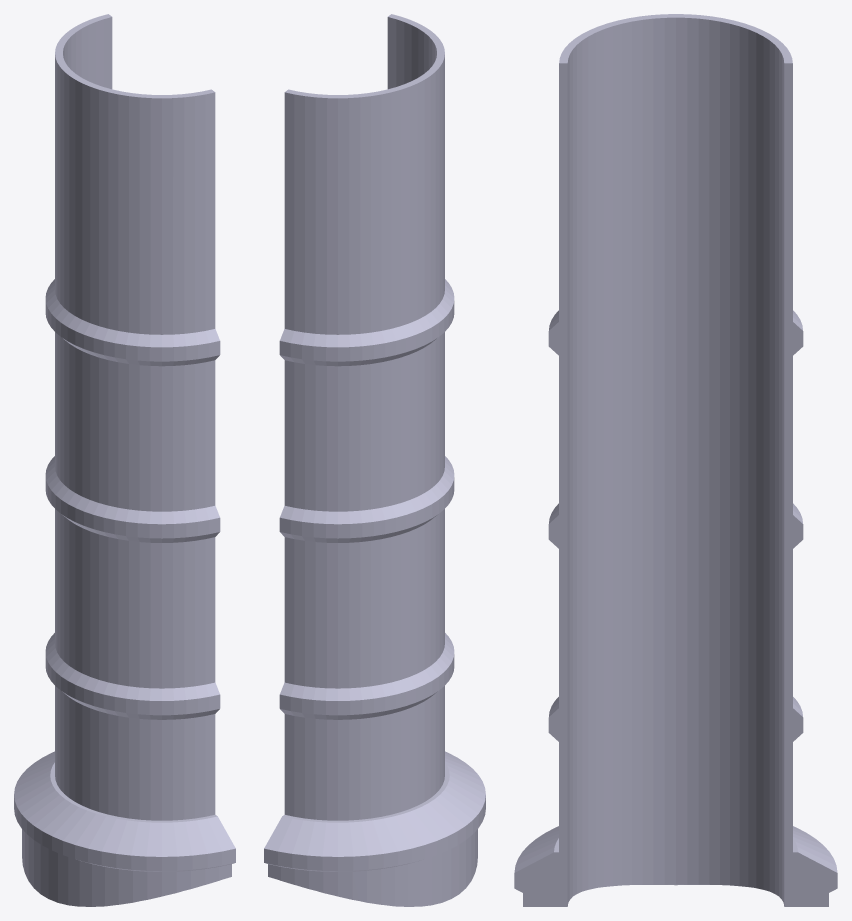
Rendered from PX16-cut2.glb.
3 renders of one model, left to right at view 1: azimuth 30°, elevation 25°; view 2: azimuth 150°, elevation 25°; view 3: azimuth 270°, elevation 25°, orthographic. The views are drawn at different scales.
Parts seen in each view (by area): view 1: null; view 2: null; view 3: null.
Part boxes in pixels (box(x1,y1,x2,y2)): null: box(14, 14, 235, 906); null: box(264, 14, 485, 906); null: box(514, 14, 837, 906).
Bounding box in the file's own units: 9.4 × 56.91 × 18.8.
